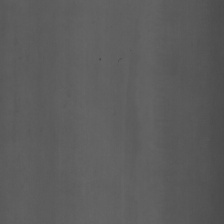inclusion: (96, 50, 102, 64), (117, 50, 123, 63)
